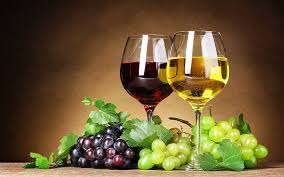grapes: (140, 128, 268, 171)
